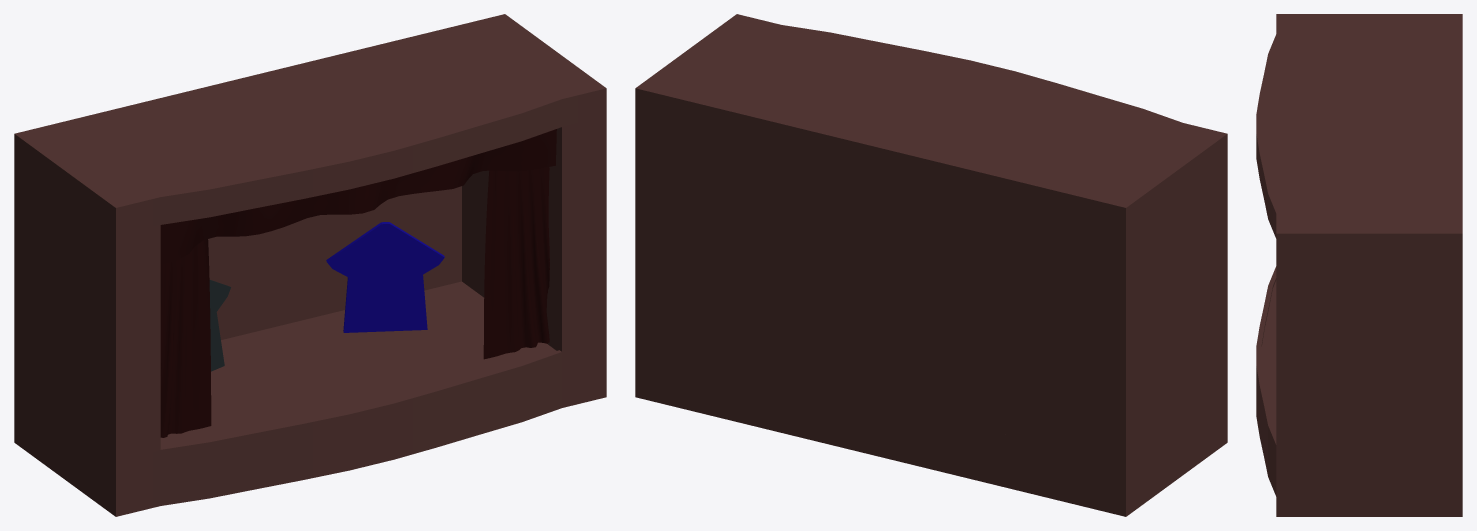
The model's file is DramaticStage.fbx.
3 renders of one model, left to right at view 1: azimuth 30°, elevation 25°; view 2: azimuth 150°, elevation 25°; view 3: azimuth 270°, elevation 25°, orthographic. The views are drawn at different scales.
Visible parts, largest first — view 1: Stage, TopCloth, CardBoard001, CardBoard; view 2: Stage; view 3: Stage.
Boxes of the visible parts, x1,y1,x2,y2 form: Stage: [14, 14, 606, 516]; TopCloth: [160, 129, 556, 437]; CardBoard001: [326, 222, 444, 332]; CardBoard: [209, 280, 230, 371]; Stage: [635, 14, 1227, 516]; Stage: [1256, 14, 1462, 516].
Bounding box in the file's own units: 201 × 79.7 × 121.
